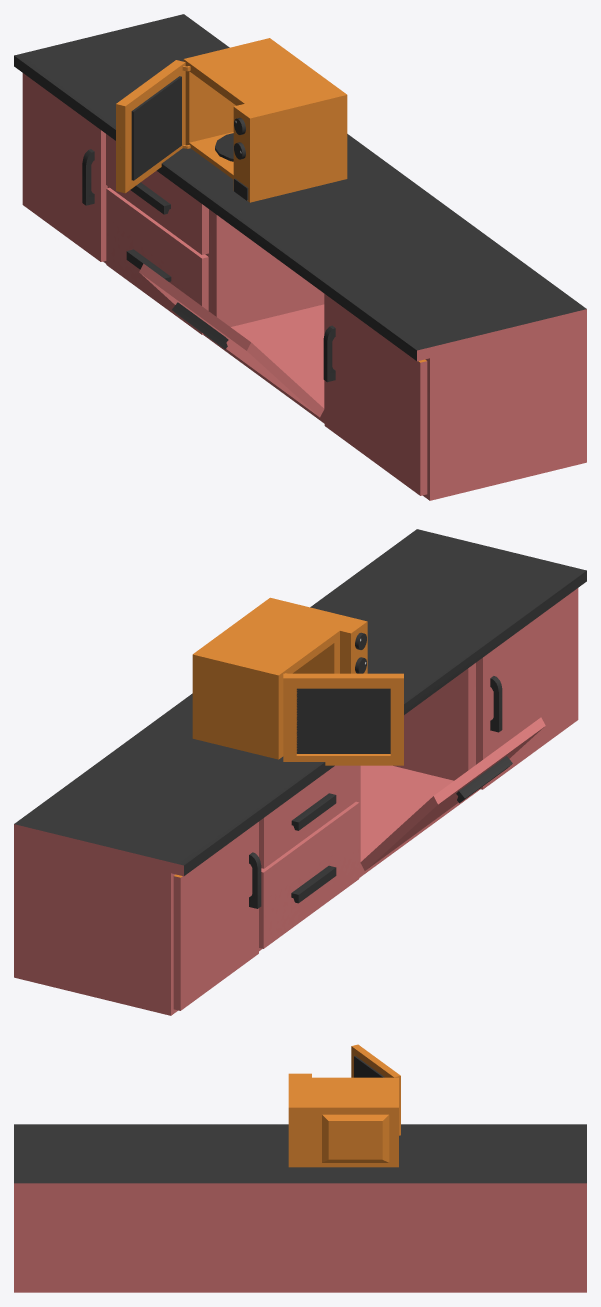
The model's file is chickentable01.fbx.
3 views of the same model, one above another, from view 1: azimuth 30°, elevation 25°; view 2: azimuth 150°, elevation 25°; view 3: azimuth 270°, elevation 25° (orthographic). The views are drawn at different scales.
Visible parts, largest first — view 1: polySurface114, lo_vi_song3; view 2: polySurface114, lo_vi_song3; view 3: polySurface114, lo_vi_song3.
Boxes of the visible parts, x1,y1,x2,y2 form: polySurface114: [14, 14, 586, 500]; lo_vi_song3: [116, 38, 347, 202]; polySurface114: [14, 529, 586, 1015]; lo_vi_song3: [192, 597, 403, 765]; polySurface114: [14, 1124, 586, 1292]; lo_vi_song3: [288, 1044, 400, 1167].
Bounding box in the file's own units: 4.89 × 4.73 × 14.55.
Materials: 2 (2 with a texture image).
